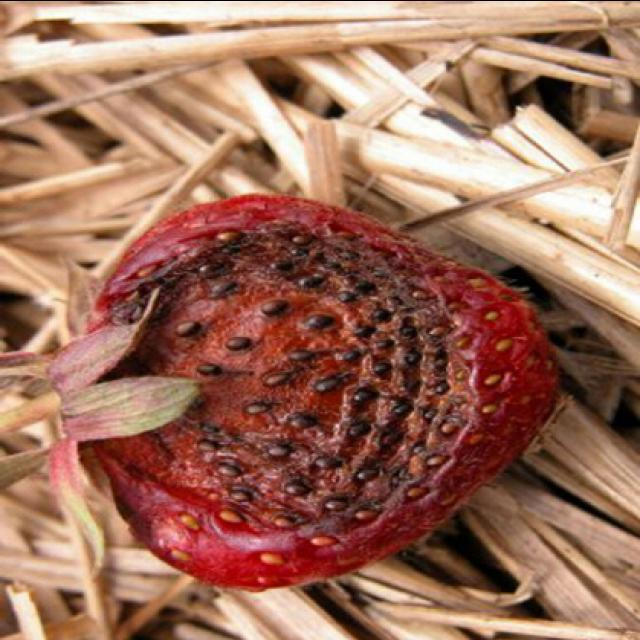Anthracnose Fruit Rot: (89, 209, 474, 554)
